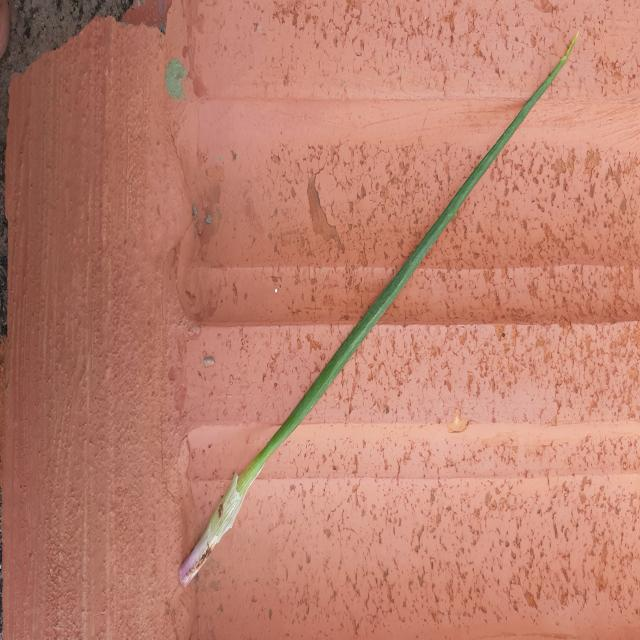onion: (174, 41, 574, 577)
